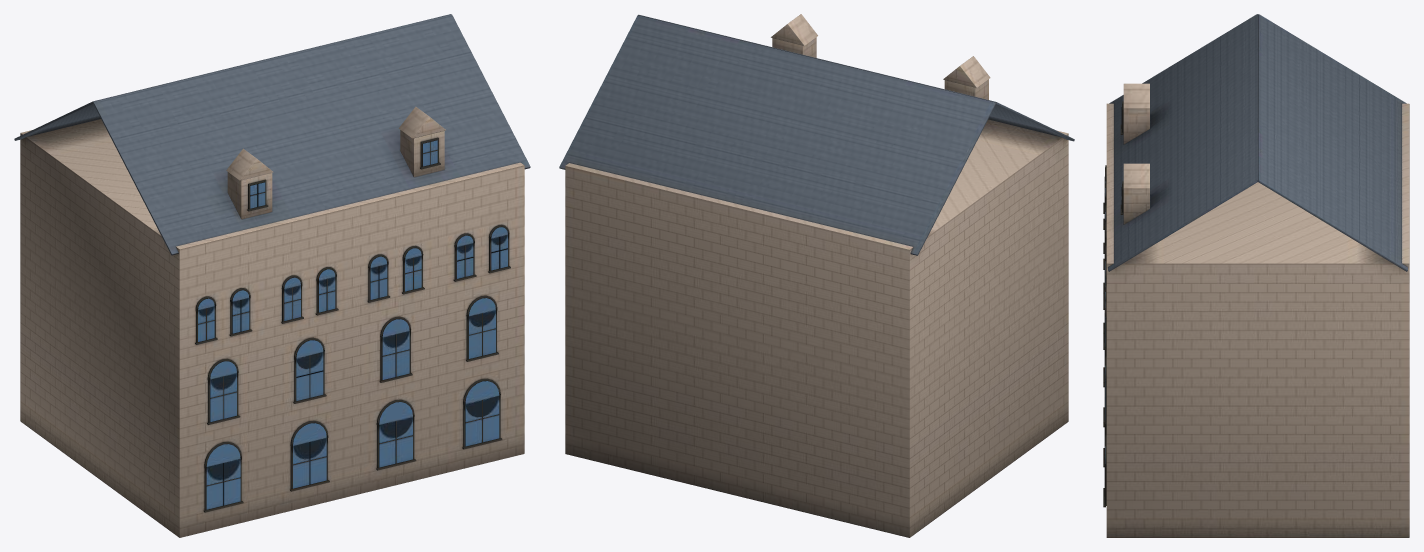
The model's file is correos.glb.
3 renders of one model, left to right at view 1: azimuth 30°, elevation 25°; view 2: azimuth 150°, elevation 25°; view 3: azimuth 270°, elevation 25°, orthographic. The views are drawn at different scales.
Parts seen in each view (by area): view 1: correos; view 2: correos; view 3: correos.
Part boxes in pixels (x1,y1,x2,y2): correos: (14,14,530,537); correos: (559,14,1074,537); correos: (1103,14,1409,537).
Size of the model in its own units: 20.8 by 21.04 by 16.16.
1 material, 1 textured.
